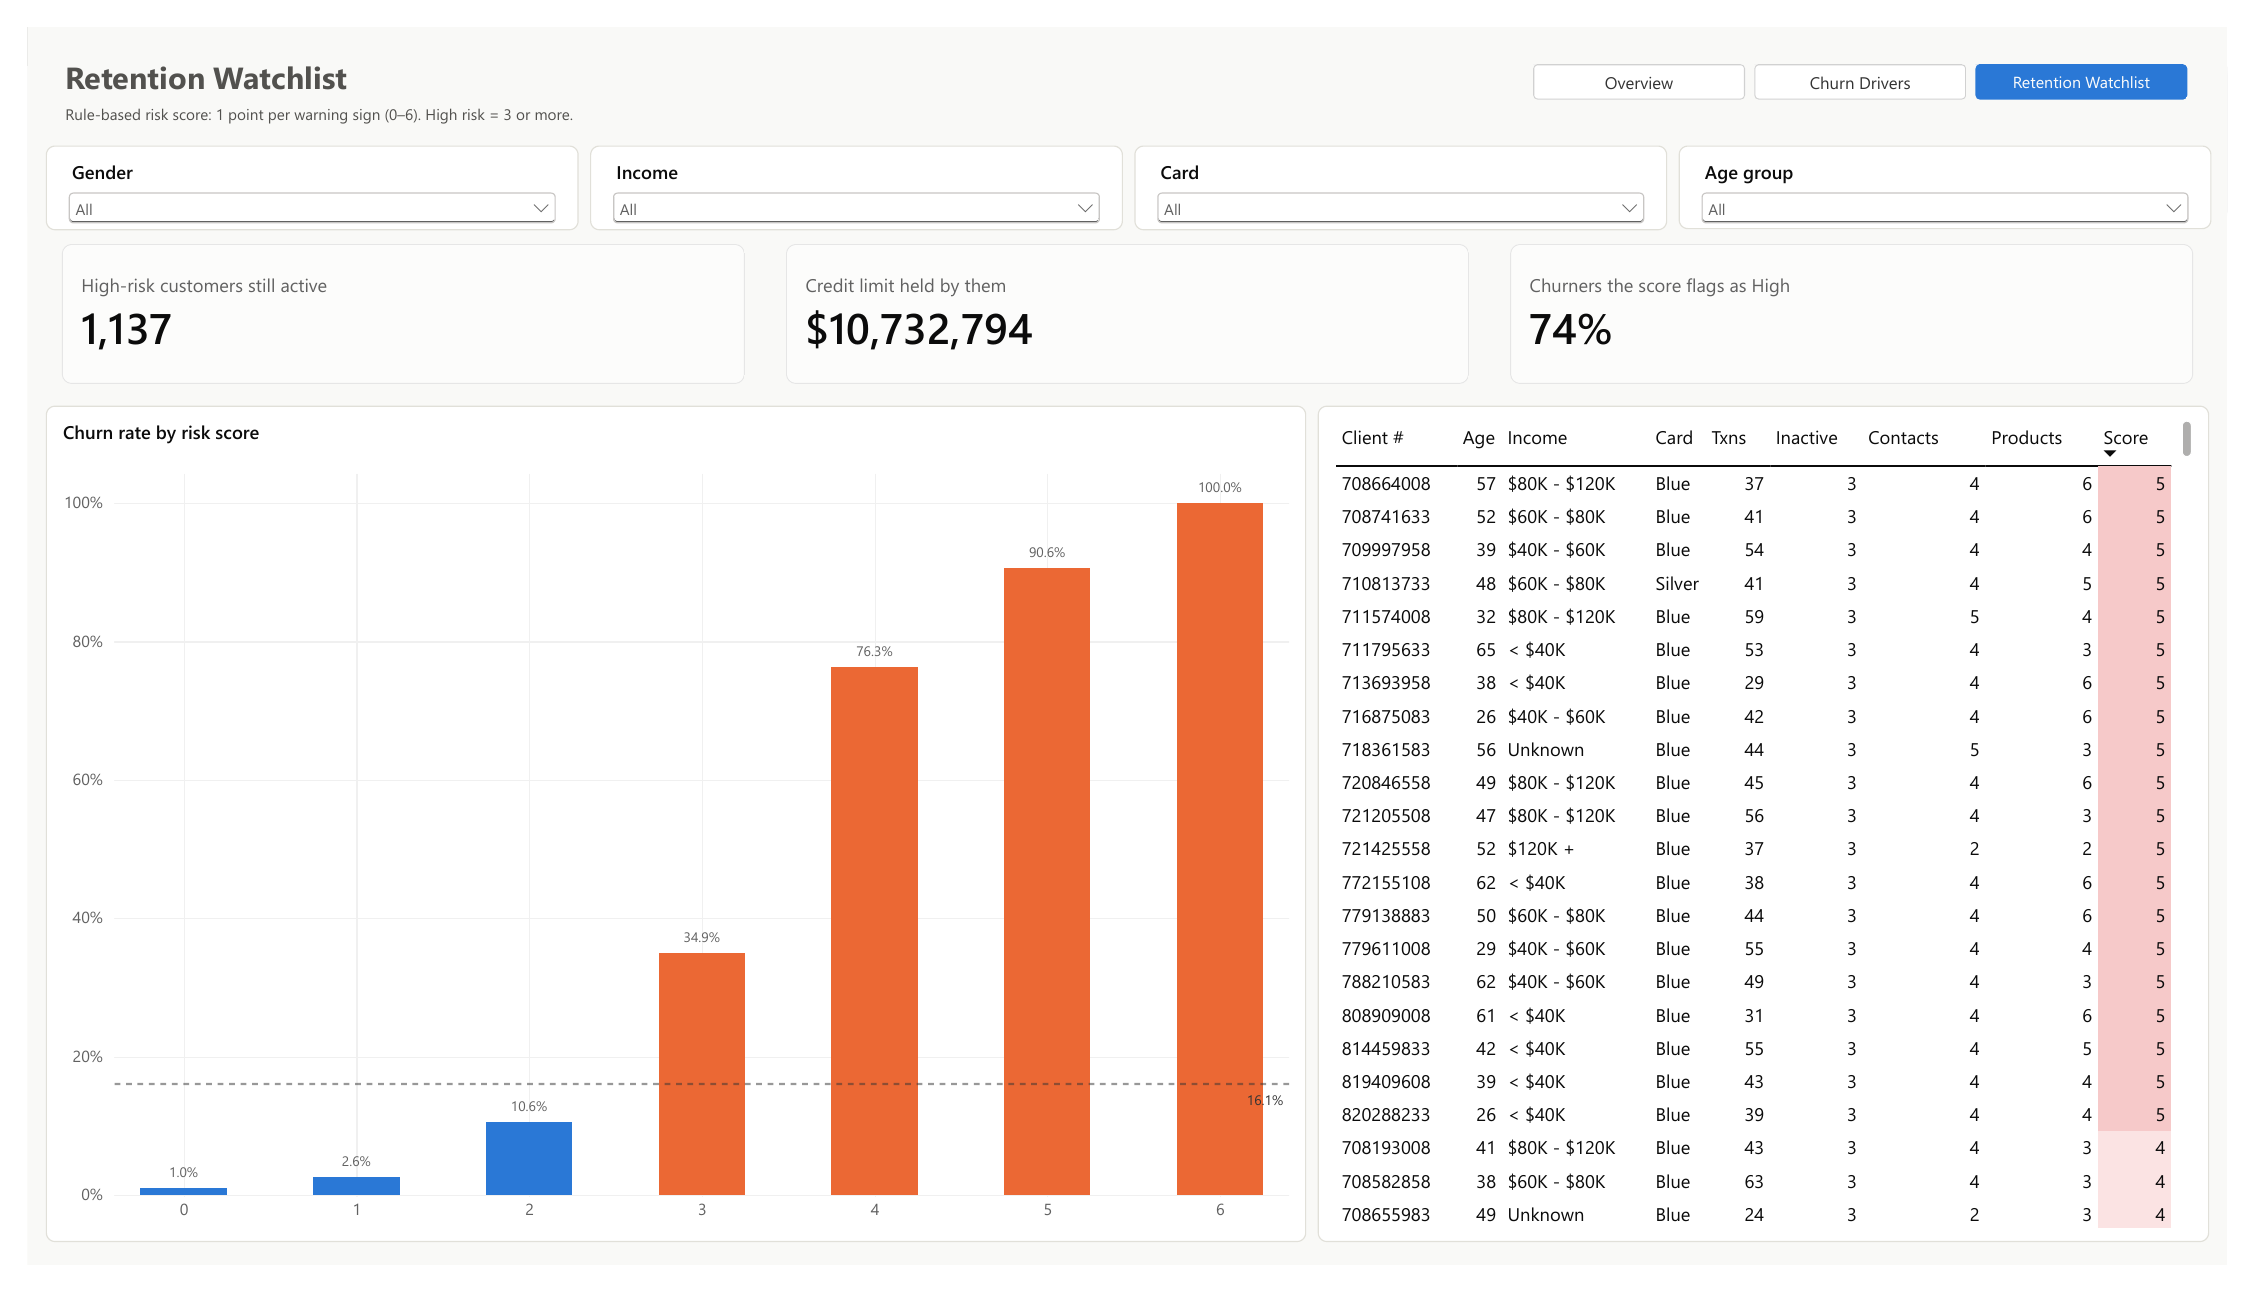

The page's visual inventory and layout, read from the dashboard file:
{"tool":"powerbi","page":{"name":"Retention Watchlist","canvas":[1920,1080],"ordinal":2},"visuals":[{"type":"textbox","box":[18.6,13,390.4,53.9],"z":0},{"type":"slicer","fields":{"Values":["Customers.Gender"]},"box":[16,103.2,465,73.4],"z":1000},{"type":"slicer","fields":{"Values":["Customers.Income_Category"]},"box":[491,103.2,465,73.4],"z":2000},{"type":"slicer","fields":{"Values":["Customers.Card_Category"]},"box":[966,103.2,465,73.4],"z":3000},{"type":"slicer","fields":{"Values":["Customers.Age Group"]},"box":[1441,103,465,73.4],"z":4000},{"type":"cardVisual","fields":{"Data":["_Measures.High-Risk Active Customers"]},"box":[16,176.6,624,146.9],"z":5000},{"type":"cardVisual","fields":{"Data":["_Measures.Credit Limit at Risk"]},"box":[648,176.6,624,146.9],"z":6000},{"type":"cardVisual","fields":{"Data":["_Measures.High-Risk Capture Rate"]},"box":[1280,176.6,624,146.9],"z":7000},{"type":"clusteredColumnChart","title":"Churn rate by risk score","fields":{"Category":["Customers.Risk Score"],"Y":["_Measures.Churn Rate"]},"box":[16,330,1100,730],"z":8000},{"type":"textbox","box":[18.6,66.9,486.1,27.9],"z":9000},{"type":"tableEx","fields":{"Values":["Customers.CLIENTNUM","Customers.Customer_Age","Customers.Income_Category","Customers.Card_Category","Sum(Customers.Total_Trans_Ct)","Customers.Months_Inactive_12_mon","Customers.Contacts_Count_12_mon","Customers.Total_Relationship_Count","Customers.Risk Score"]},"box":[1126,330,778,730],"z":10000},{"type":"pageNavigator","box":[1300,20,600,55],"z":11000}]}

Visuals, with their boxes in screenshot pixels (x1, y1, x2, y2), scaled from the page's 1920x1080 canvas onto the 2255x1293 screenshot:
textbox: <bbox>22, 16, 480, 80</bbox>
slicer - Customers.Gender: <bbox>19, 124, 565, 211</bbox>
slicer - Customers.Income_Category: <bbox>577, 124, 1123, 211</bbox>
slicer - Customers.Card_Category: <bbox>1135, 124, 1681, 211</bbox>
slicer - Customers.Age Group: <bbox>1692, 123, 2239, 211</bbox>
cardVisual - _Measures.High-Risk Active Customers: <bbox>19, 211, 752, 387</bbox>
cardVisual - _Measures.Credit Limit at Risk: <bbox>761, 211, 1494, 387</bbox>
cardVisual - _Measures.High-Risk Capture Rate: <bbox>1503, 211, 2236, 387</bbox>
"Churn rate by risk score" clusteredColumnChart: <bbox>19, 395, 1311, 1269</bbox>
textbox: <bbox>22, 80, 593, 113</bbox>
tableEx - Customers.CLIENTNUM x Customers.Customer_Age: <bbox>1322, 395, 2236, 1269</bbox>
pageNavigator: <bbox>1527, 24, 2232, 90</bbox>
